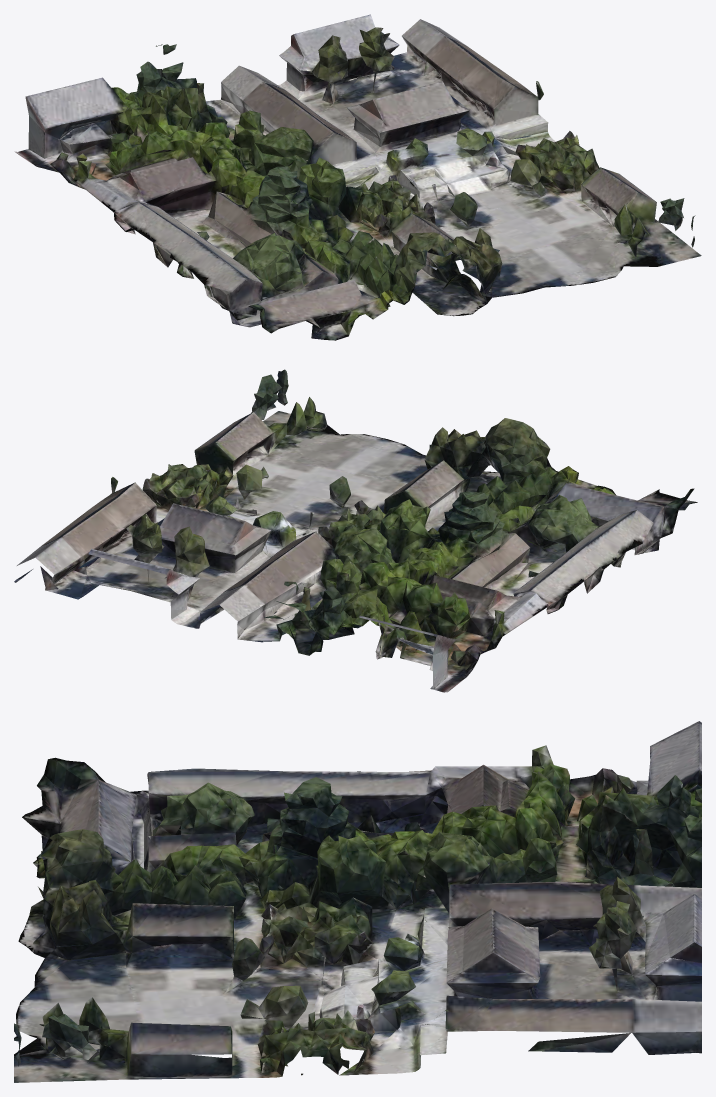
3 renders of one model, top to bottom at view 1: azimuth 30°, elevation 25°; view 2: azimuth 150°, elevation 25°; view 3: azimuth 270°, elevation 25°, orthographic. The views are drawn at different scales.
Bounding box in the file's own units: 109 × 22.44 × 114.
1 material, 1 textured.
